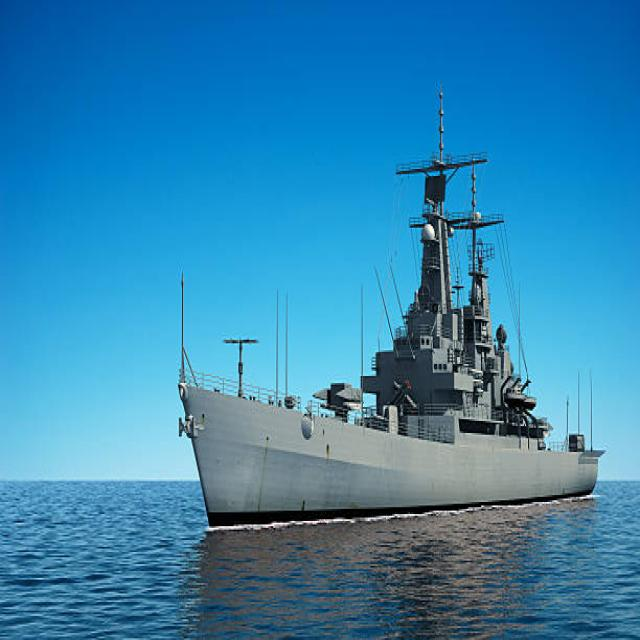Military: (179, 150, 607, 531)
